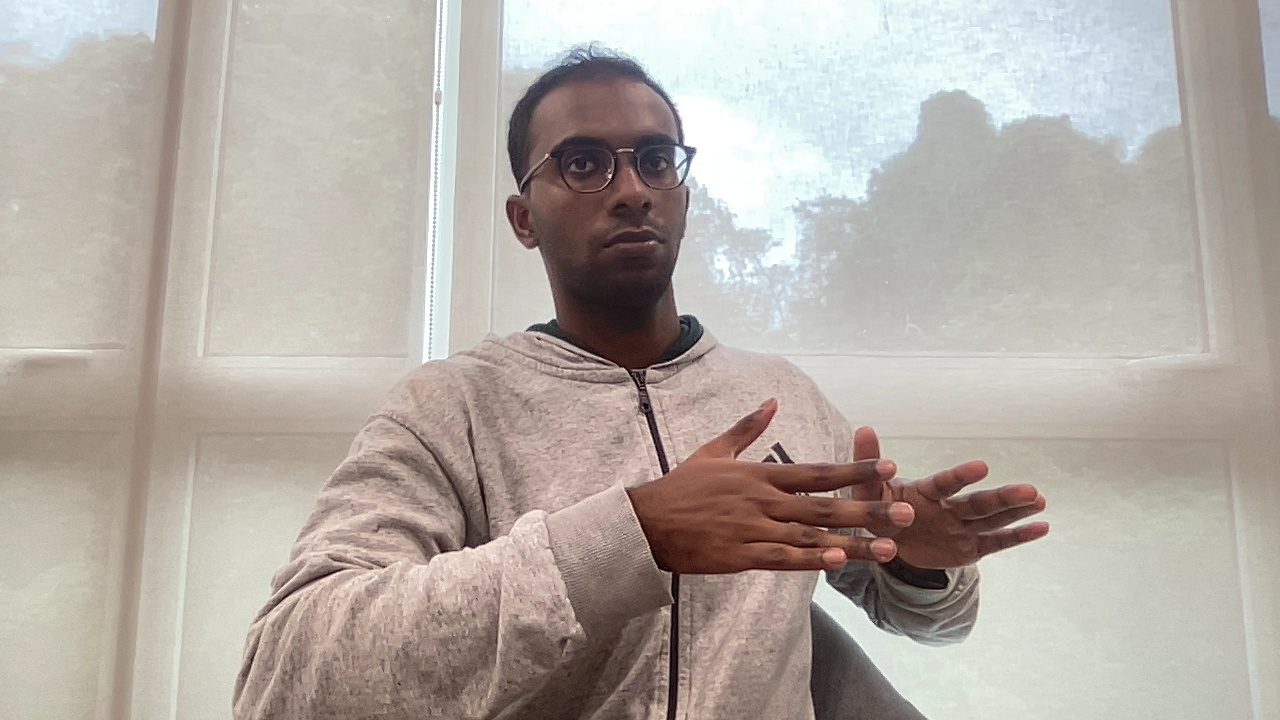finish: (664, 396, 1055, 594)
